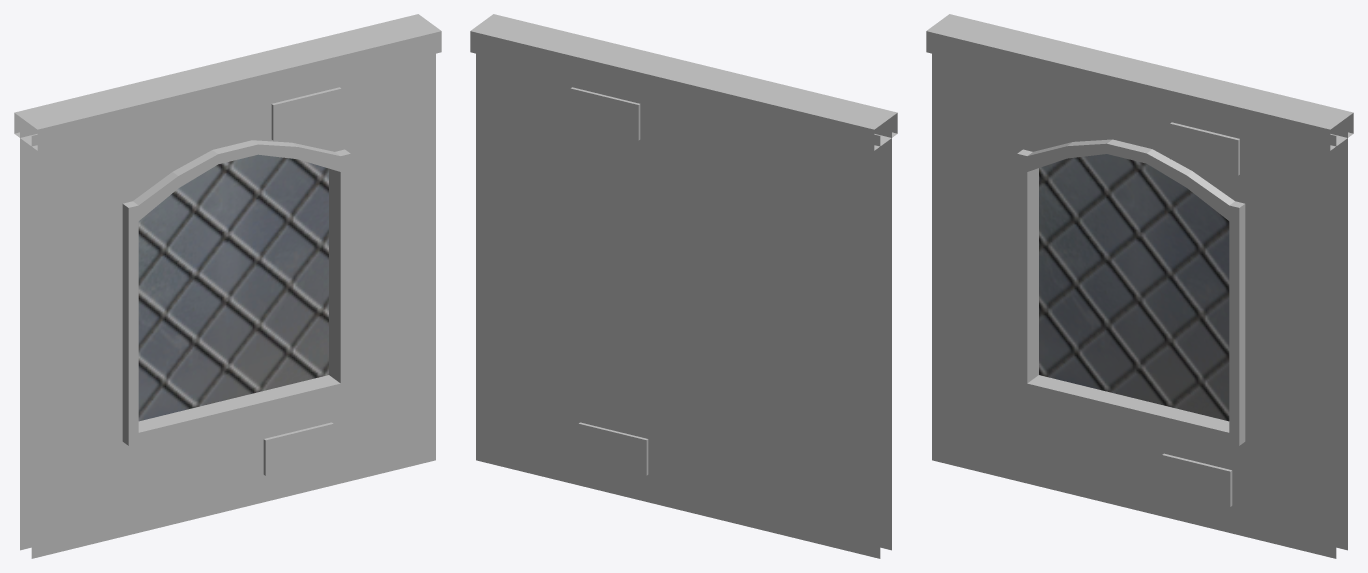
File: Wall_1_2_Up.fbx
The picture shows the model from 3 angles, left to right: view 1: azimuth 30°, elevation 25°; view 2: azimuth 150°, elevation 25°; view 3: azimuth 330°, elevation 25°; orthographic projection.
Visible parts, largest first — view 1: polySurface9707; view 2: polySurface9707; view 3: polySurface9707.
Part boxes in pixels (left/top/right/bottom): polySurface9707: left=14, top=14, right=441, bottom=558; polySurface9707: left=470, top=14, right=897, bottom=558; polySurface9707: left=926, top=14, right=1353, bottom=558.
Bounding box in the file's own units: 4 × 4.1 × 0.4.
